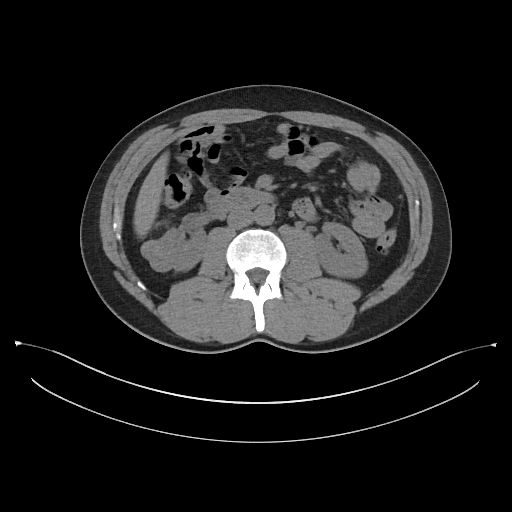Lesion: (139, 237, 165, 264)
